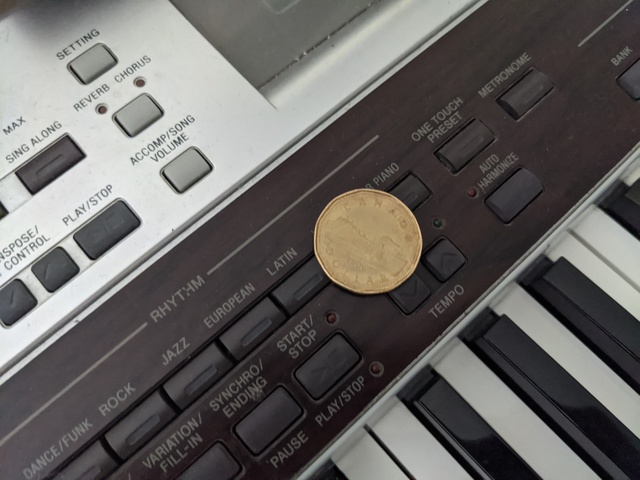loonie: (306, 187, 430, 297)
